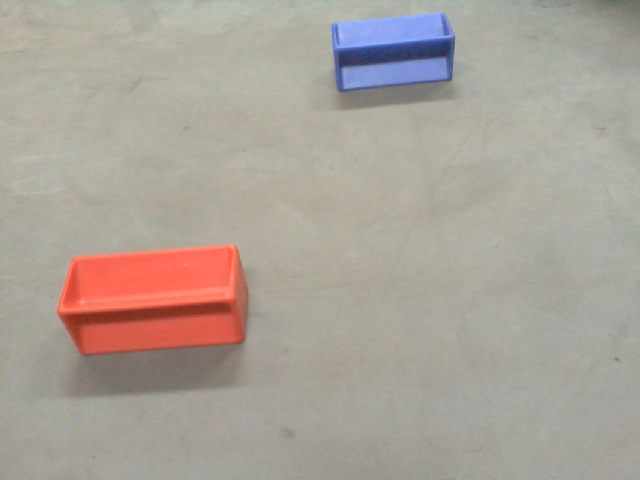BlueSample: (326, 8, 460, 93)
RedSample: (53, 240, 250, 361)
